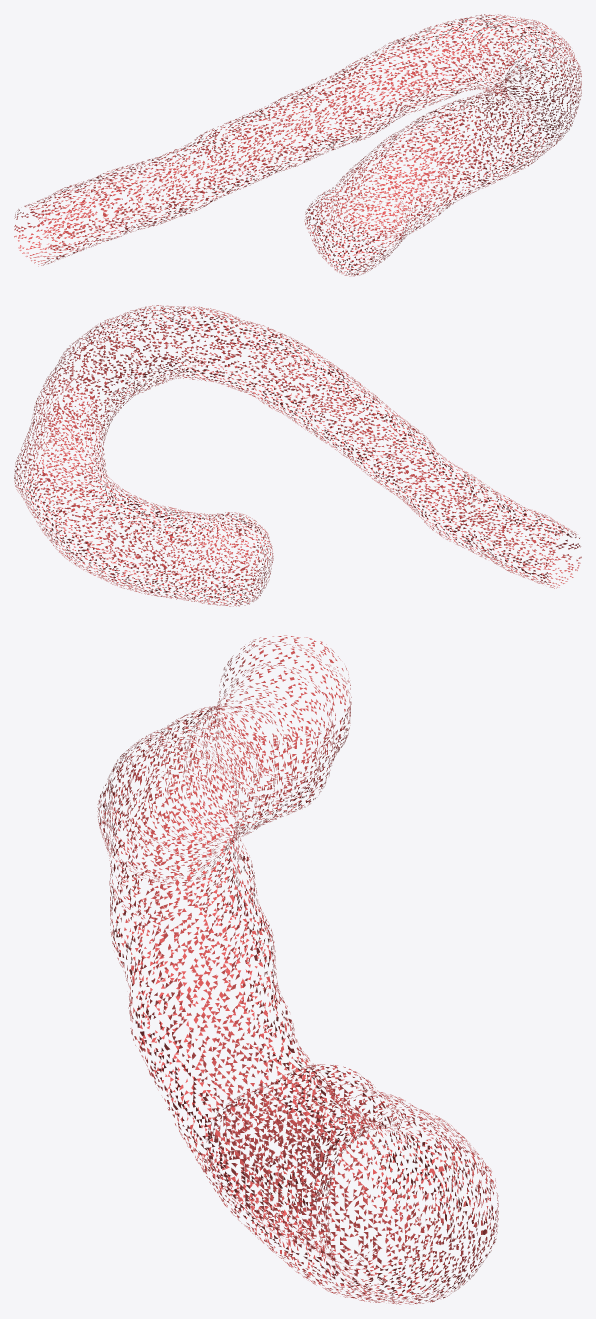
The model's file is aorta.glb.
The picture shows the model from 3 angles, top to bottom: view 1: azimuth 30°, elevation 25°; view 2: azimuth 150°, elevation 25°; view 3: azimuth 270°, elevation 25°; orthographic projection. The views are drawn at different scales.
Bounding box in the file's own units: 200 × 91.61 × 66.01.
